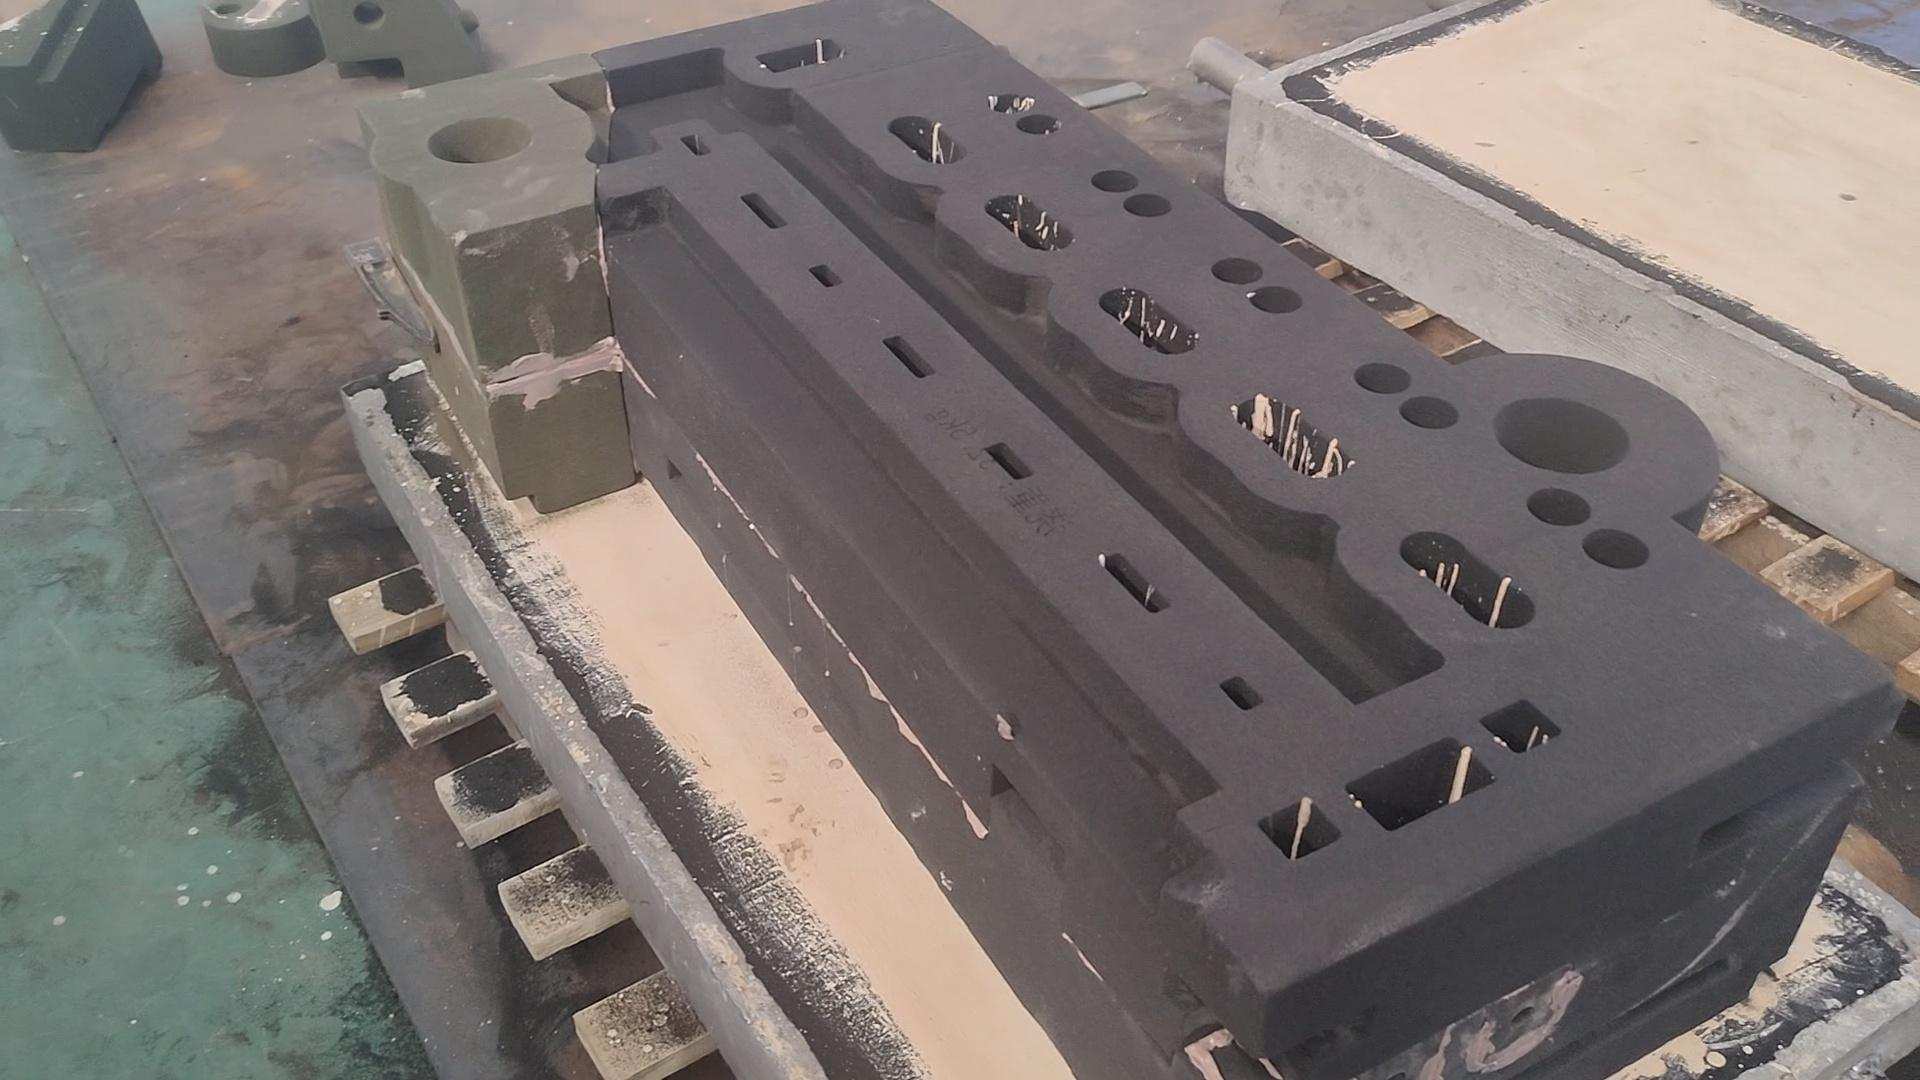pouring hole: (1490, 396, 1633, 475), (425, 113, 533, 166)
